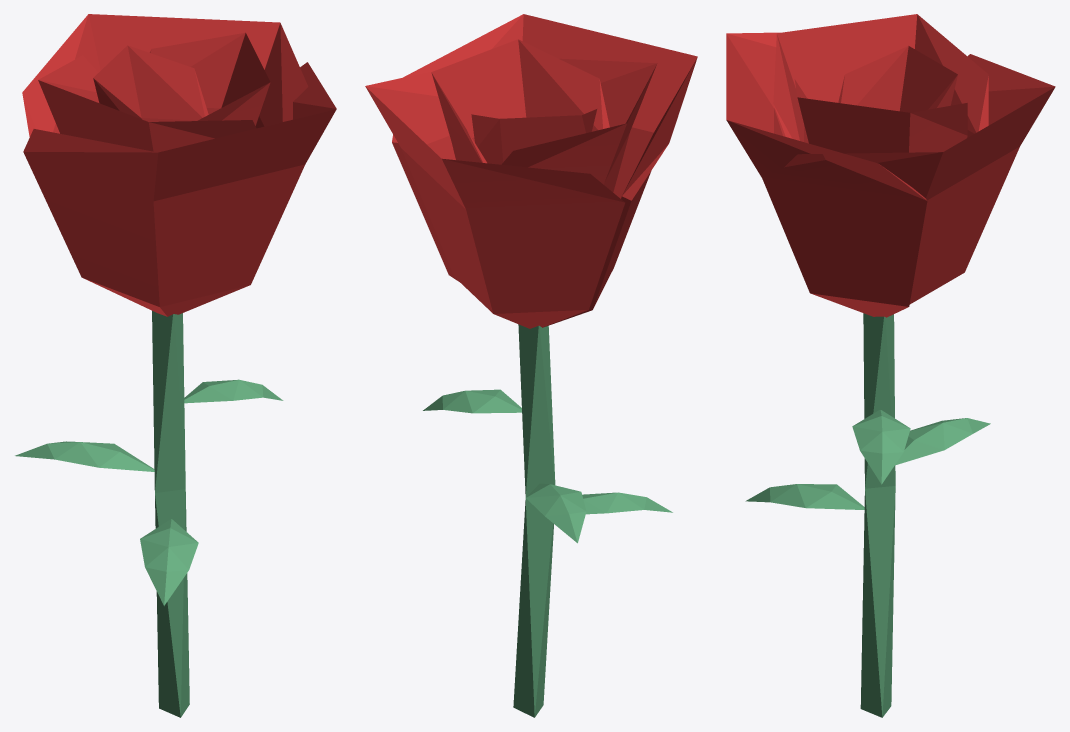
Rendered from Hilly_Prop_Flower_Rose.glb.
3 views of the same model, side by side, from view 1: azimuth 30°, elevation 25°; view 2: azimuth 150°, elevation 25°; view 3: azimuth 270°, elevation 25° (orthographic). The views are drawn at different scales.
Parts seen in each view (by area): view 1: Hilly_Prop_Flower_Rose; view 2: Hilly_Prop_Flower_Rose; view 3: Hilly_Prop_Flower_Rose.
Part boxes in pixels (box(x1,y1,x2,y2)): Hilly_Prop_Flower_Rose: box(15, 14, 336, 717); Hilly_Prop_Flower_Rose: box(365, 14, 697, 717); Hilly_Prop_Flower_Rose: box(726, 14, 1055, 717).
Size of the model in its own units: 0.2227 by 0.4917 by 0.2295.
